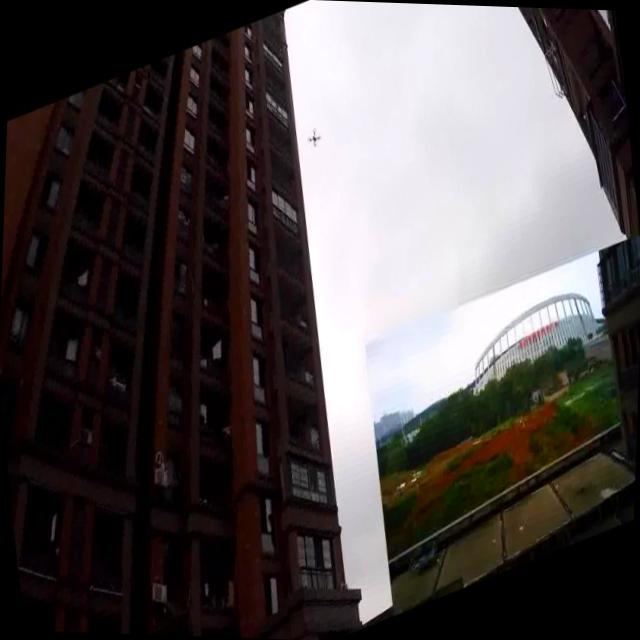drone: (302, 119, 328, 160)
